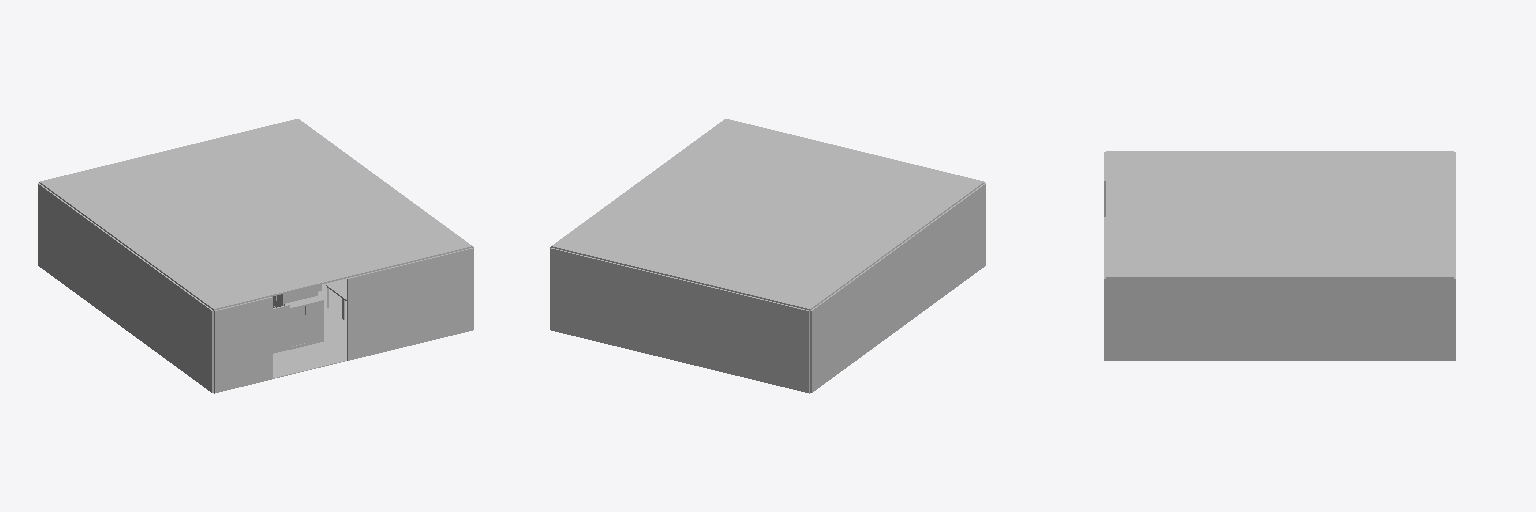
The model's file is LabPlan.obj.
3 renders of one model, left to right at view 1: azimuth 30°, elevation 25°; view 2: azimuth 150°, elevation 25°; view 3: azimuth 270°, elevation 25°, orthographic.
Visible parts, largest first — view 1: Mesh6 Ceiling Model, Mesh7 Wall Model, Mesh1 Floor Model, Mesh211 G_126x5cm7 Model, Mesh294 UpperShelf4 G_120x40cm_DoubleShelf3 Model; view 2: Mesh6 Ceiling Model, Mesh7 Wall Model; view 3: Mesh6 Ceiling Model, Mesh7 Wall Model.
Boxes of the visible parts, x1=… form: Mesh6 Ceiling Model: x1=39, y1=119, x2=472, y2=310; Mesh7 Wall Model: x1=38, y1=183, x2=473, y2=393; Mesh1 Floor Model: x1=273, y1=278, x2=346, y2=378; Mesh211 G_126x5cm7 Model: x1=273, y1=305, x2=289, y2=353; Mesh294 UpperShelf4 G_120x40cm_DoubleShelf3 Model: x1=284, y1=296, x2=323, y2=327; Mesh6 Ceiling Model: x1=551, y1=119, x2=984, y2=310; Mesh7 Wall Model: x1=550, y1=183, x2=985, y2=393; Mesh6 Ceiling Model: x1=1106, y1=151, x2=1453, y2=278; Mesh7 Wall Model: x1=1104, y1=152, x2=1455, y2=360.
Bounding box in the file's own units: 910 × 280 × 1060.